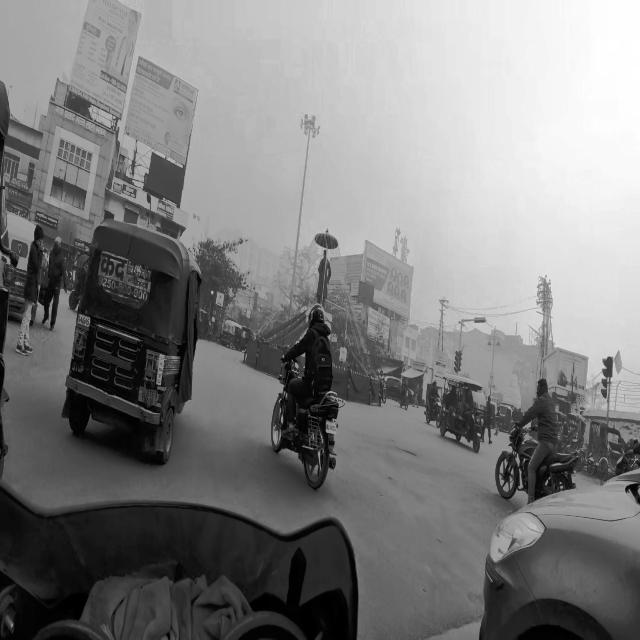Auto-Rickshaw: (67, 221, 200, 466), (0, 208, 44, 326)
Bike: (266, 300, 344, 512), (492, 395, 582, 488), (428, 382, 440, 423)
Car: (478, 470, 640, 639)
Toto: (441, 369, 487, 457)
